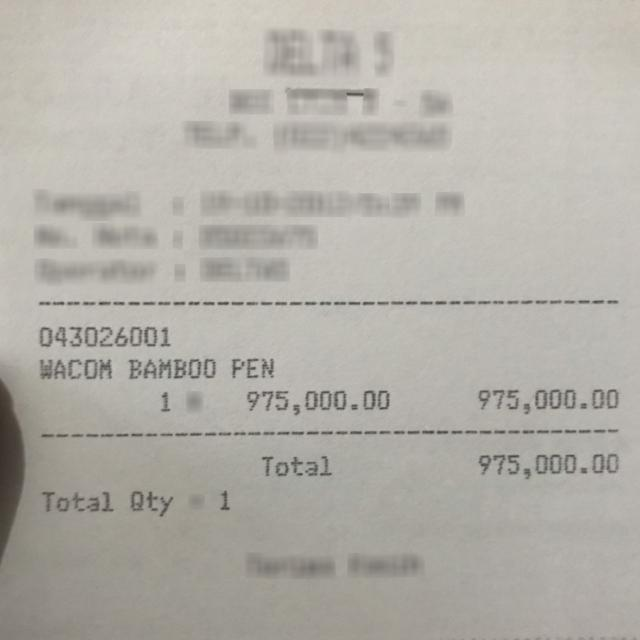text: (245, 387, 389, 415), (477, 451, 618, 478), (476, 387, 616, 413), (38, 326, 169, 346), (36, 354, 120, 380), (128, 358, 215, 378), (40, 490, 113, 510), (261, 455, 330, 475), (130, 490, 172, 516), (231, 358, 273, 378), (219, 490, 229, 508), (160, 392, 168, 411)
